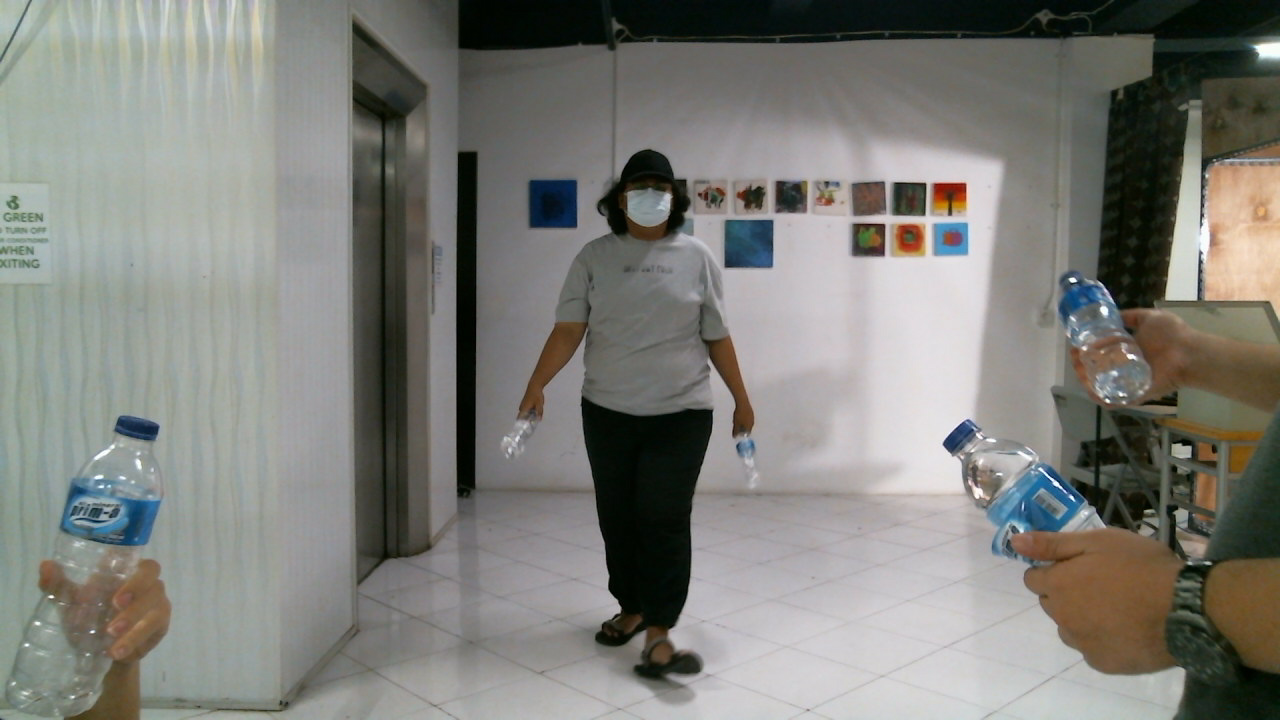Bottle: (5, 416, 164, 720)
